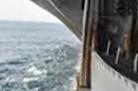rust: (80, 32, 87, 85), (120, 24, 133, 52)
